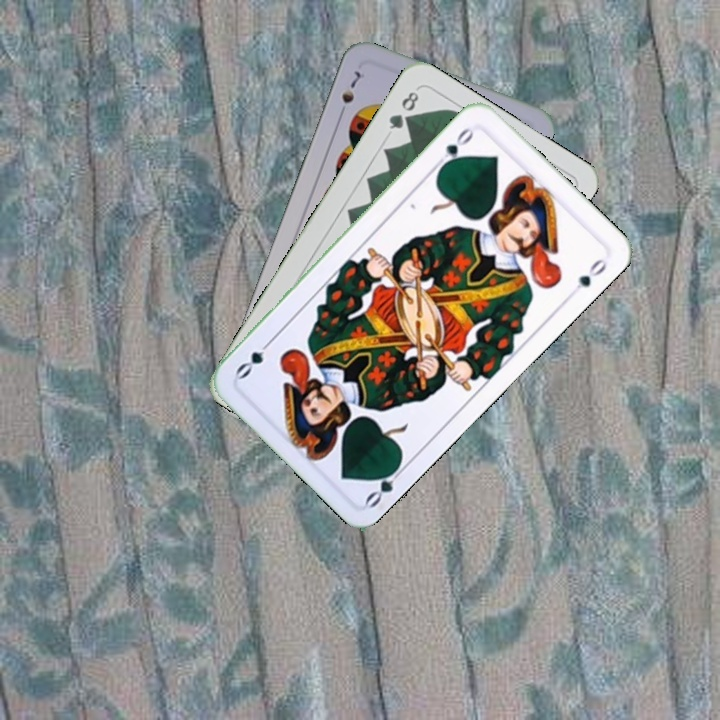G8: (385, 87, 422, 132)
GO: (361, 457, 409, 510), (432, 123, 480, 172)
S7: (334, 66, 364, 121)
